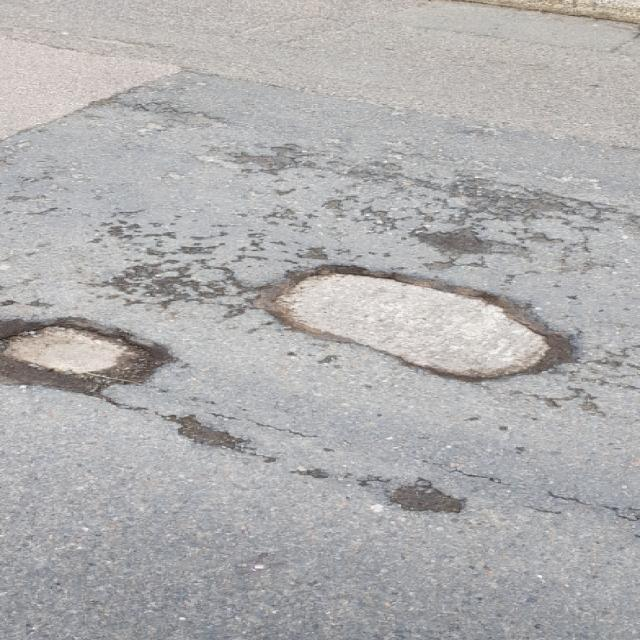Pothole: (244, 260, 584, 383), (1, 314, 176, 394)
